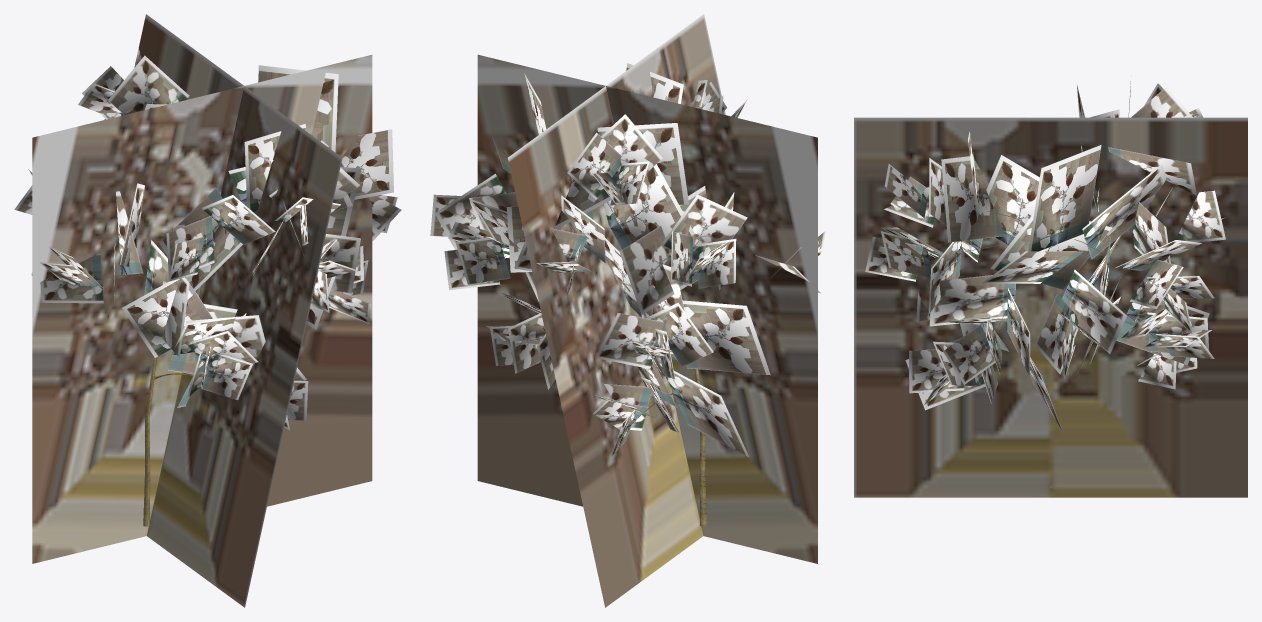
Rendered from Shrub1-2D.fbx.
3 views of the same model, side by side, from view 1: azimuth 30°, elevation 25°; view 2: azimuth 150°, elevation 25°; view 3: azimuth 270°, elevation 25° (orthographic).
Visible parts, largest first — view 1: Billboard-Shrub1-2D, Shrub1-2D_LOD0; view 2: Billboard-Shrub1-2D, Shrub1-2D_LOD0; view 3: Billboard-Shrub1-2D, Shrub1-2D_LOD0.
Boxes of the visible parts, x1,y1,x2,y2 form: Billboard-Shrub1-2D: [32, 14, 372, 607]; Shrub1-2D_LOD0: [14, 48, 401, 526]; Billboard-Shrub1-2D: [477, 14, 817, 607]; Shrub1-2D_LOD0: [430, 63, 825, 526]; Billboard-Shrub1-2D: [854, 117, 1247, 497]; Shrub1-2D_LOD0: [865, 75, 1225, 487].
Size of what is drawn, in the model's own units: 319 by 363 by 292.
